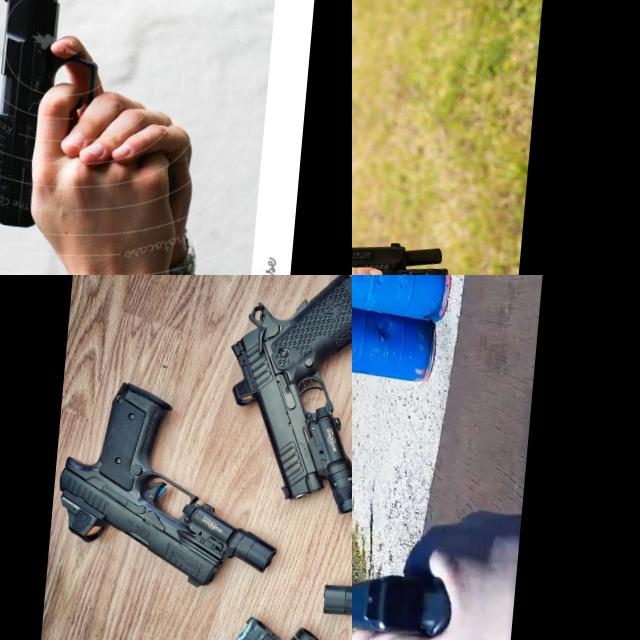handgun: (46, 372, 241, 590), (215, 275, 352, 507), (0, 0, 111, 236), (352, 559, 455, 640), (352, 221, 481, 275)
